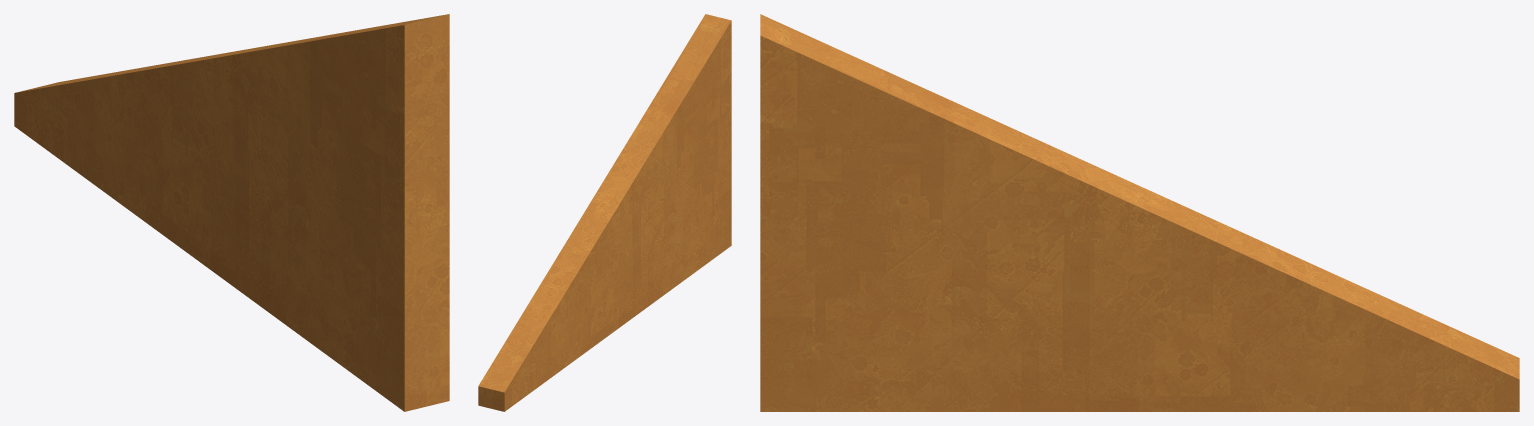
Rendered from Roof26_SideEdge.fbx.
3 views of the same model, side by side, from view 1: azimuth 30°, elevation 25°; view 2: azimuth 150°, elevation 25°; view 3: azimuth 270°, elevation 25° (orthographic). The views are drawn at different scales.
Parts seen in each view (by area): view 1: Roof26_SideEdge; view 2: Roof26_SideEdge; view 3: Roof26_SideEdge.
Part boxes in pixels (x1,y1,x2,y2): Roof26_SideEdge: (14,14,449,411); Roof26_SideEdge: (478,14,731,411); Roof26_SideEdge: (760,14,1519,411).
Size of the model in its own units: 0.2 by 3 by 1.64.
